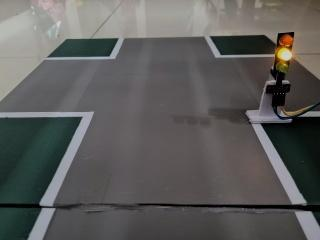yellow: (257, 21, 301, 80)
